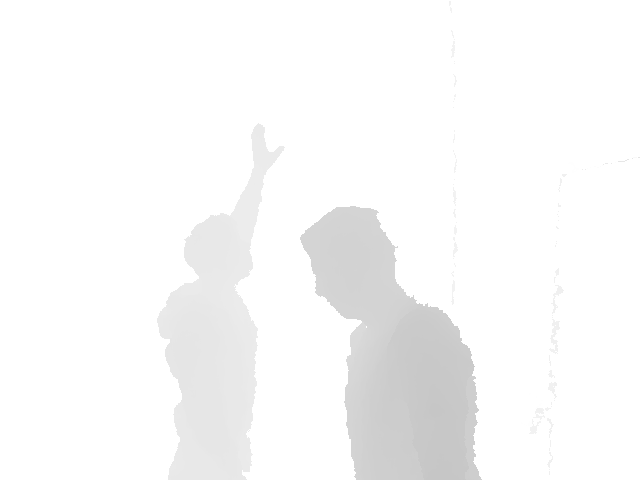hand: (249, 124, 284, 176)
head: (301, 204, 398, 320), (183, 214, 254, 284)
person: (300, 202, 483, 480), (156, 124, 285, 480)
